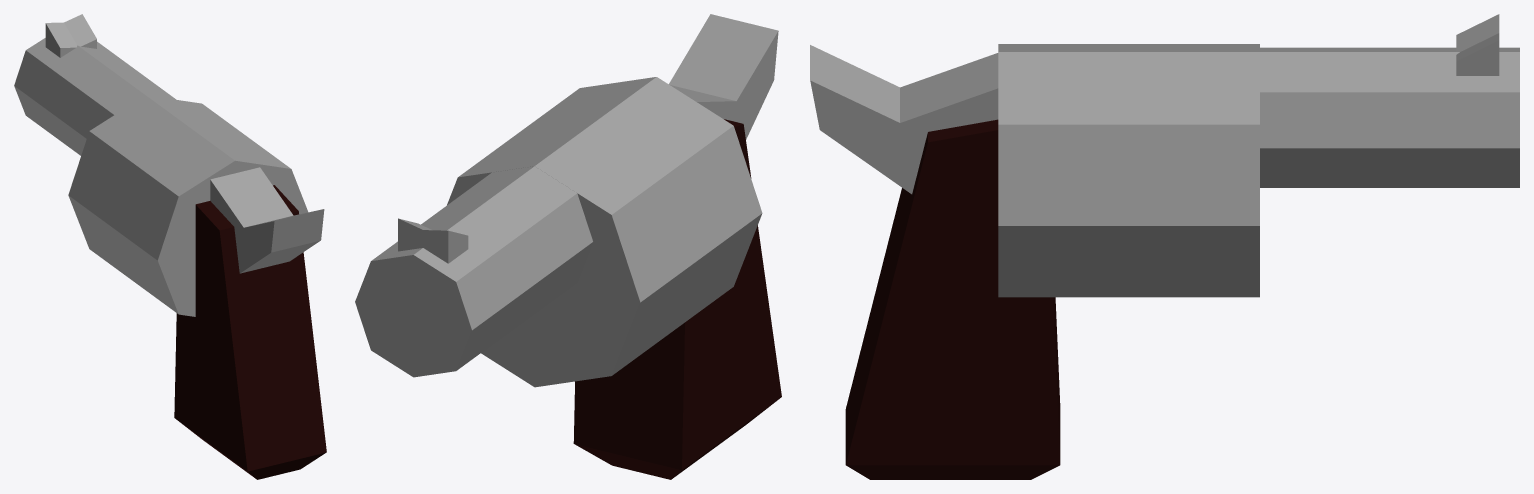
Rendered from revolver.obj.
3 views of the same model, side by side, from view 1: azimuth 30°, elevation 25°; view 2: azimuth 150°, elevation 25°; view 3: azimuth 270°, elevation 25° (orthographic). The views are drawn at different scales.
Visible parts, largest first — view 1: Cube, Куб.003, Куб.004; view 2: Куб.003, Куб.004, Cube; view 3: Куб.003, Cube, Куб.004.
Boxes of the visible parts, x1,y1,x2,y2 form: Cube: (174,185,326,479); Куб.003: (68,95,307,316); Куб.004: (14,14,324,273); Куб.003: (447,77,762,387); Куб.004: (355,14,778,377); Cube: (573,119,781,479); Куб.003: (998,44,1259,297); Cube: (845,119,1060,479); Куб.004: (810,14,1519,194).
Size of the model in its own units: 1.79 by 3.3 by 4.86.
